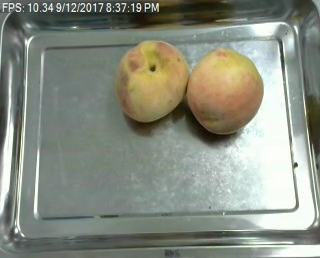Peach: (187, 46, 264, 135), (114, 38, 188, 122)
